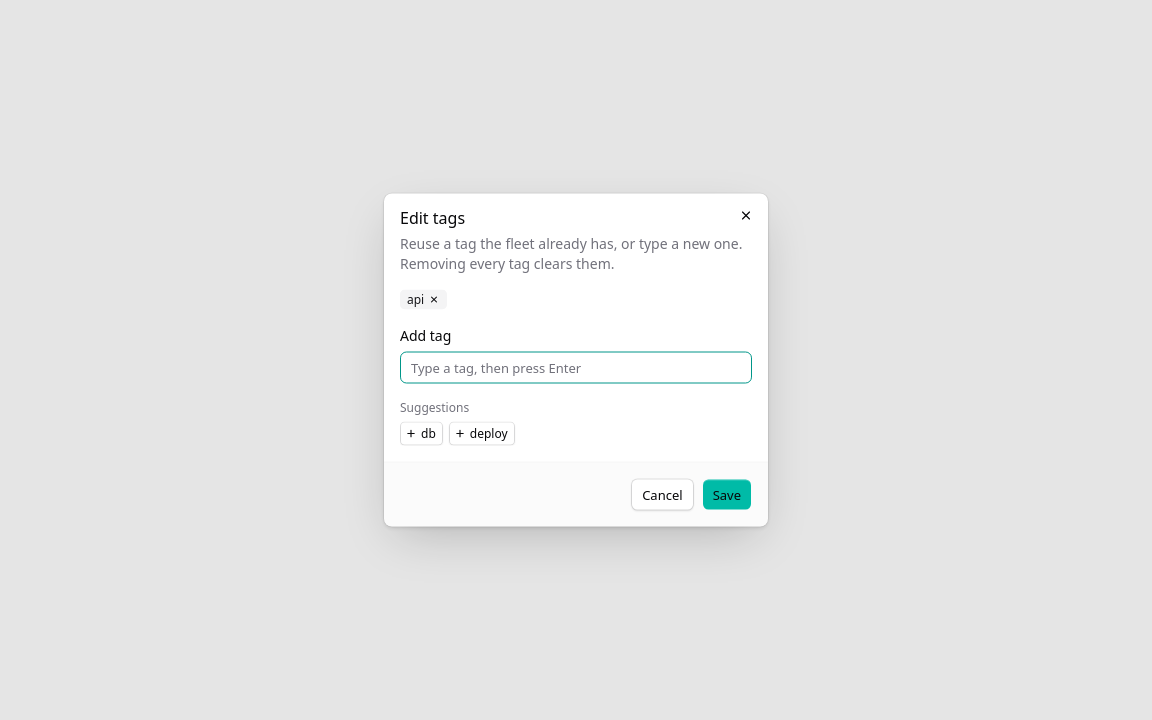
Test: TagEditor › adds a trimmed tag on Enter and empties the field
Type "  feat-x  " into the field labelled "Add tag" at [576, 368], box [400, 352, 752, 384]
Then press Enter
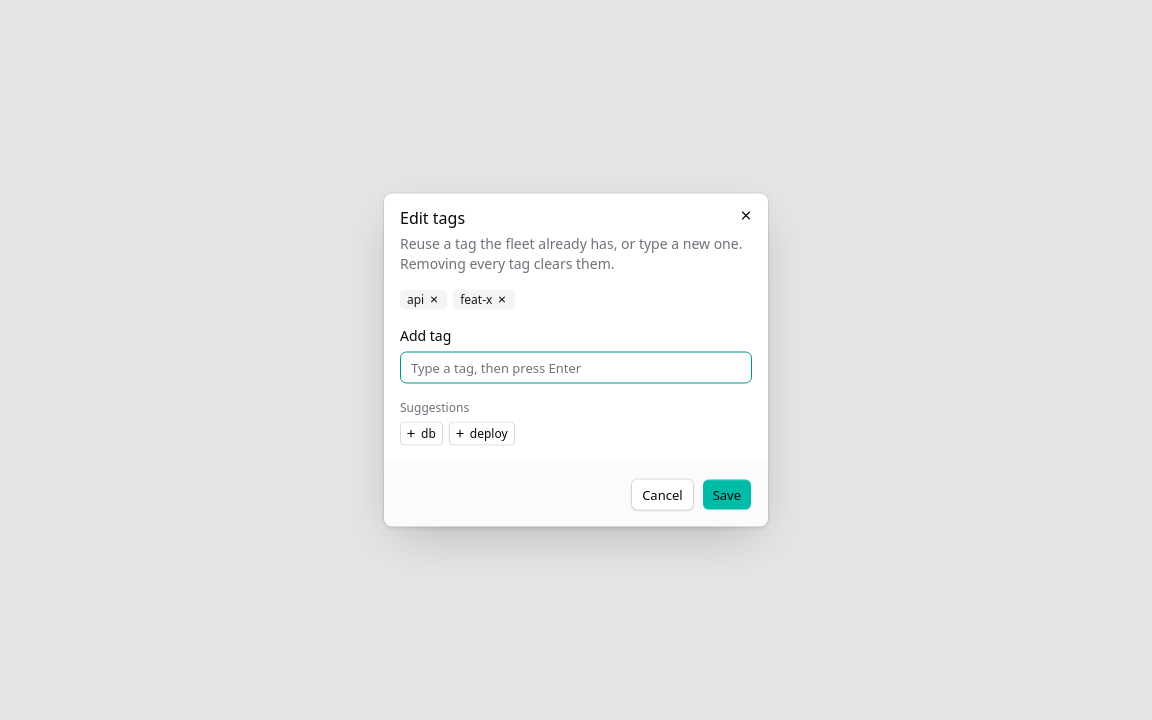
Now the button with aria-label "Remove feat-x" is shown, box [453, 290, 515, 310]
